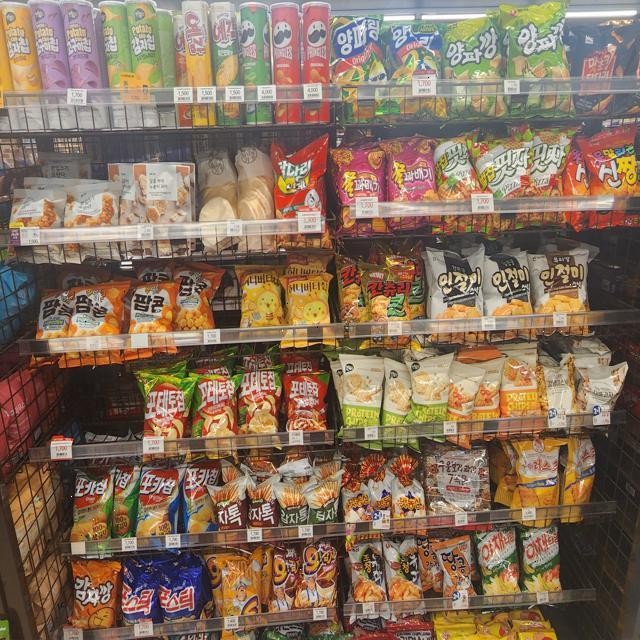product: (443, 19, 505, 127), (269, 144, 332, 242), (330, 17, 389, 117), (425, 248, 488, 335), (579, 135, 636, 227), (332, 148, 389, 235), (138, 375, 193, 462), (394, 23, 443, 119), (531, 256, 589, 334), (71, 289, 125, 367), (476, 140, 532, 213), (66, 472, 116, 550), (68, 556, 115, 638), (279, 276, 334, 345), (340, 356, 381, 446), (389, 143, 437, 219), (159, 566, 207, 640), (238, 371, 280, 449), (118, 564, 160, 639), (478, 533, 521, 606), (389, 455, 428, 535), (198, 376, 238, 453), (283, 375, 328, 442), (139, 472, 180, 545), (350, 544, 388, 619), (525, 531, 563, 606), (300, 541, 340, 612), (132, 285, 173, 352), (407, 359, 449, 424), (185, 462, 218, 541), (391, 542, 423, 618), (435, 544, 475, 604)
